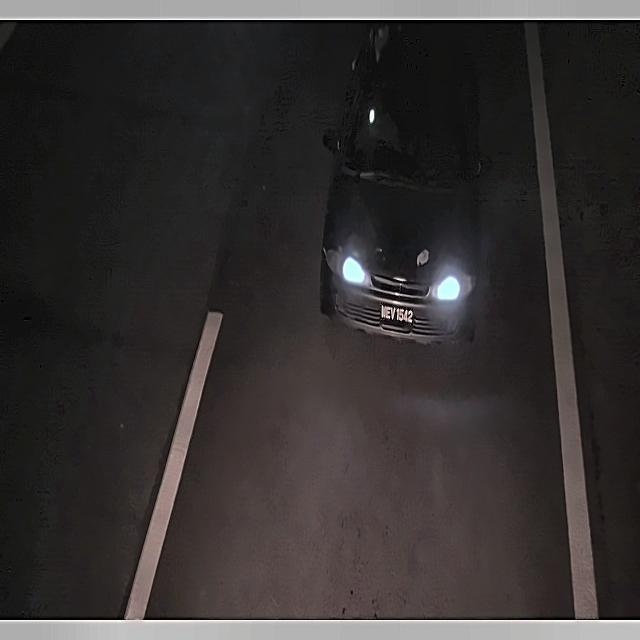car: (373, 294, 417, 339)
